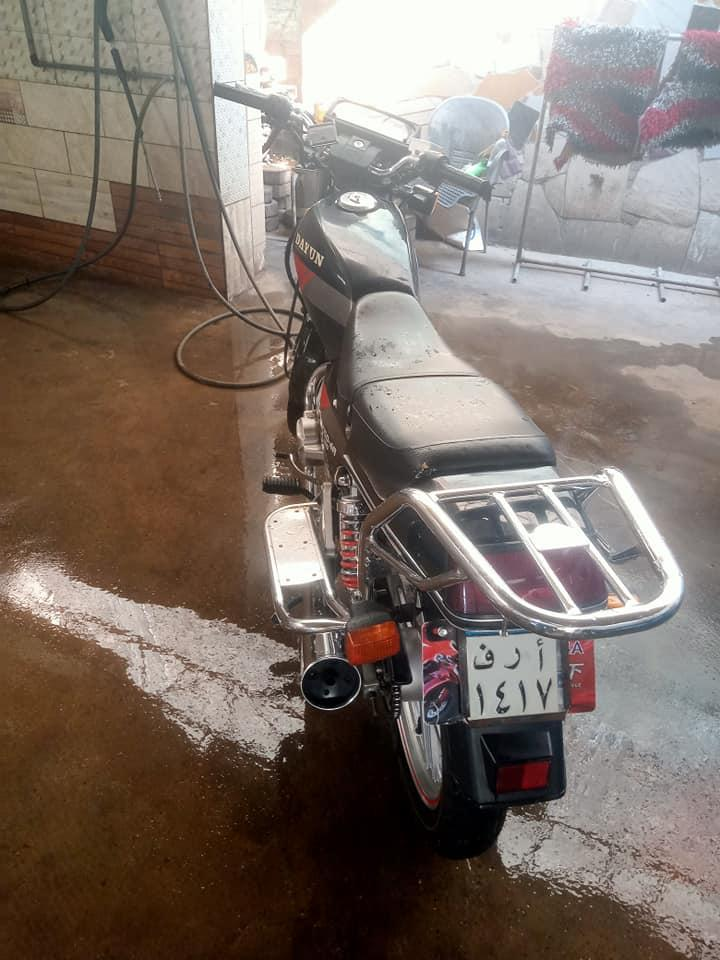License Plate: (461, 616, 572, 721)
